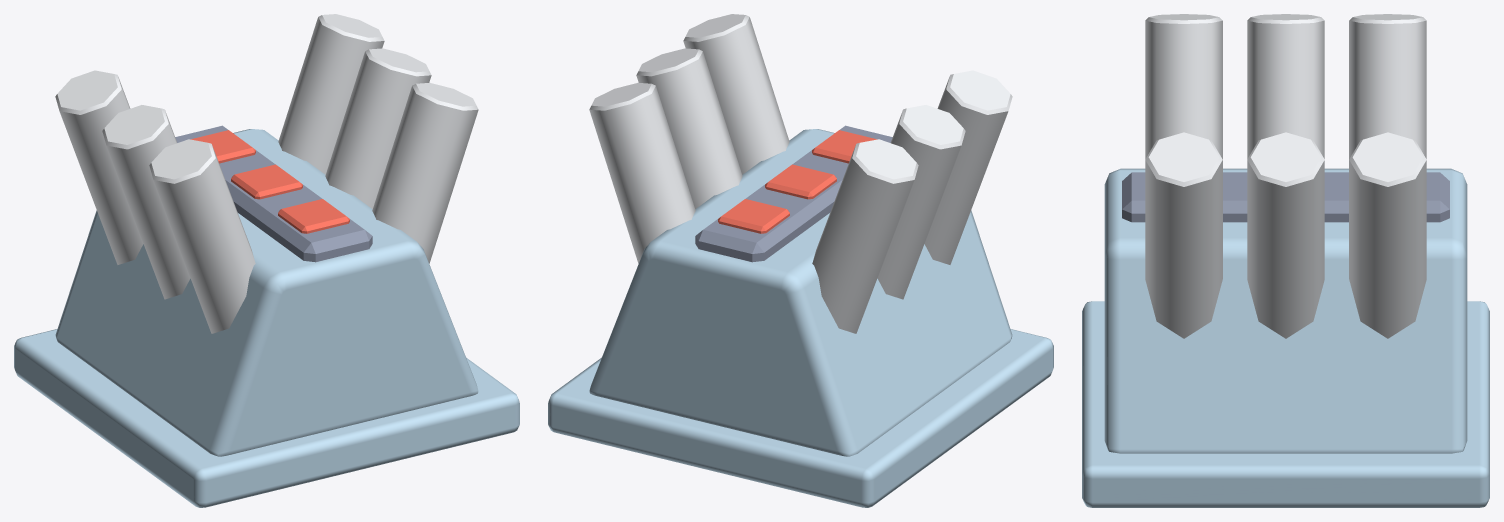
Rendered from R4X_Overdrive.glb.
3 renders of one model, left to right at view 1: azimuth 30°, elevation 25°; view 2: azimuth 150°, elevation 25°; view 3: azimuth 270°, elevation 25°, orthographic. The views are drawn at different scales.
Parts seen in each view (by area): view 1: R4X_Overdrive_Body; view 2: R4X_Overdrive_Body; view 3: R4X_Overdrive_Body.
Part boxes in pixels (<box>): R4X_Overdrive_Body: <box>14,14,519,507</box>; R4X_Overdrive_Body: <box>548,14,1053,507</box>; R4X_Overdrive_Body: <box>1082,14,1489,507</box>.
Size of the model in its own units: 0.52 by 0.4918 by 0.52.
